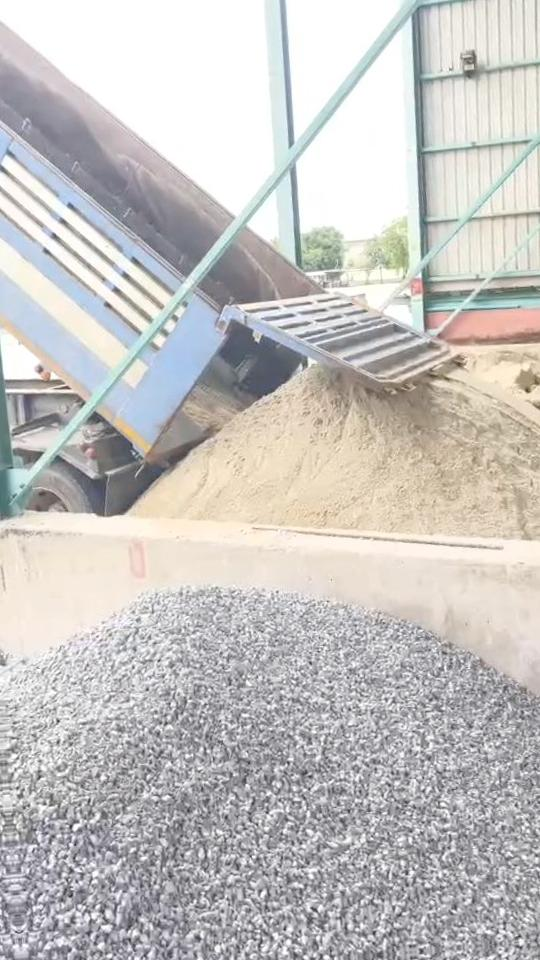gravel: (6, 587, 540, 960)
sand: (135, 367, 540, 541), (469, 356, 540, 399)
